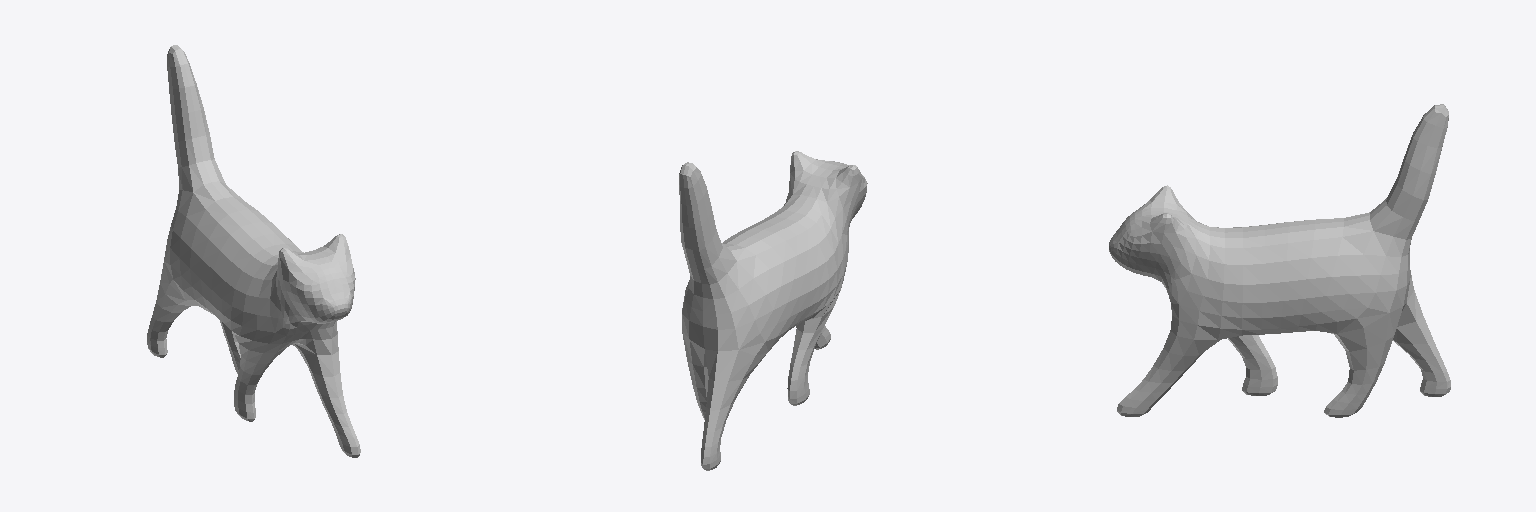
File: cat.obj
3 views of the same model, side by side, from view 1: azimuth 30°, elevation 25°; view 2: azimuth 150°, elevation 25°; view 3: azimuth 270°, elevation 25° (orthographic).
Bounding box in the file's own units: 0.9283 × 3.11 × 3.2.